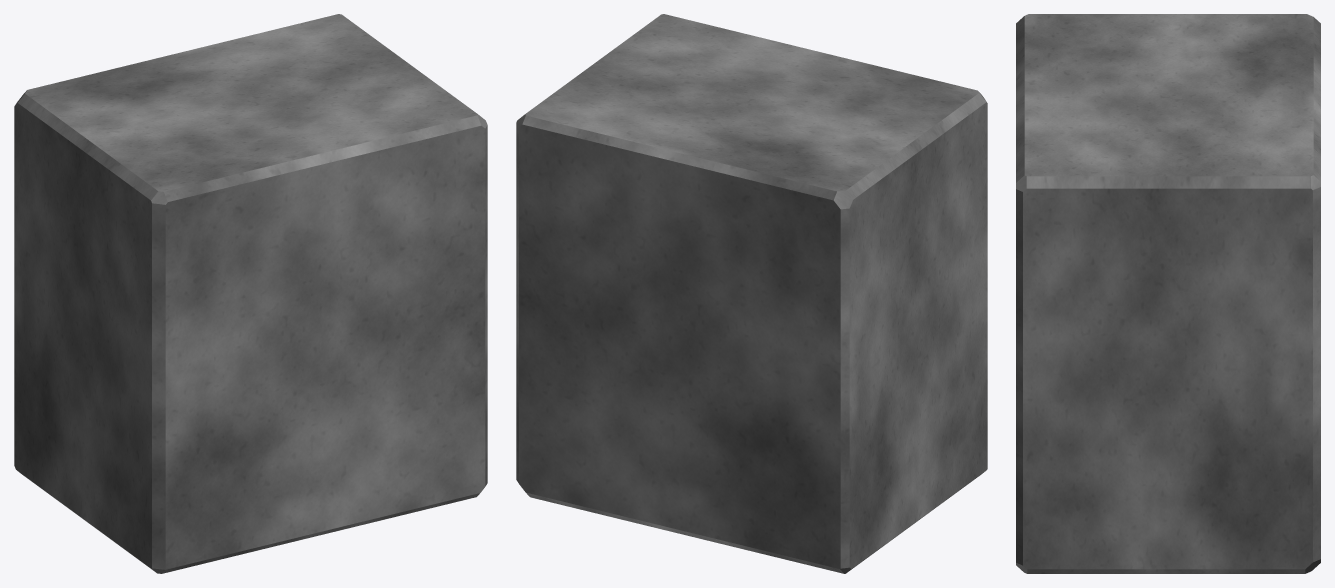
Rendered from limestone-block-03.glb.
3 renders of one model, left to right at view 1: azimuth 30°, elevation 25°; view 2: azimuth 150°, elevation 25°; view 3: azimuth 270°, elevation 25°, orthographic. The views are drawn at different scales.
Parts seen in each view (by area): view 1: limestone-block-03; view 2: limestone-block-03; view 3: limestone-block-03.
Boxes of the visible parts, <box> form: limestone-block-03: <box>14,14,487,573</box>; limestone-block-03: <box>516,14,987,573</box>; limestone-block-03: <box>1016,14,1320,573</box>.
Bounding box in the file's own units: 0.28 × 0.3058 × 0.2123.
1 material, 1 textured.
